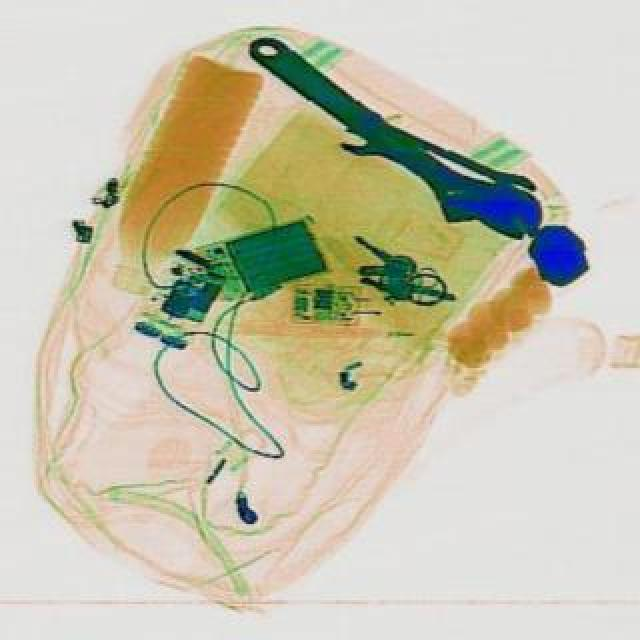scissors: (230, 22, 558, 266)
